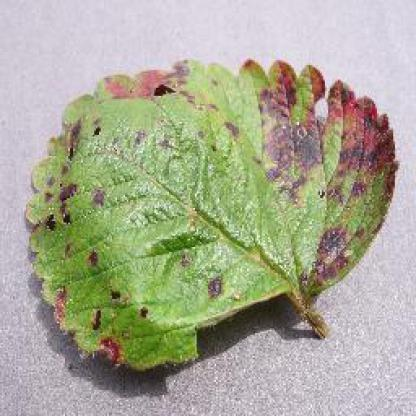leaf scorch: (23, 47, 403, 384)
